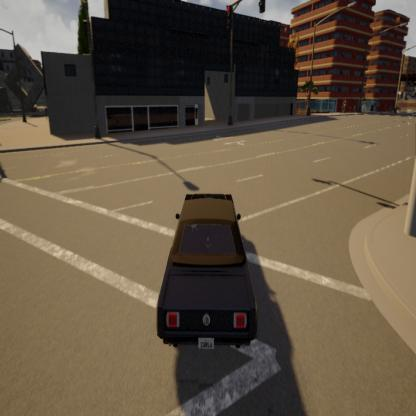Cars: (146, 178, 280, 360)
